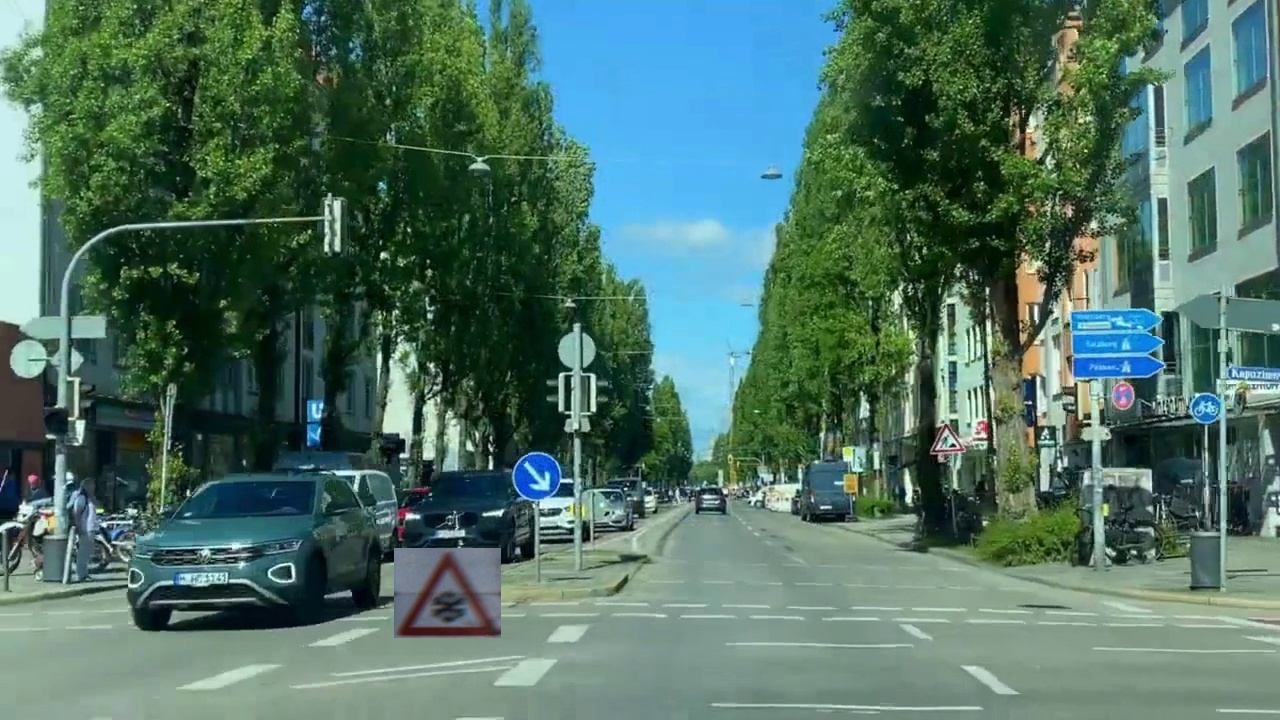Ice/snow: (394, 548, 501, 638)
